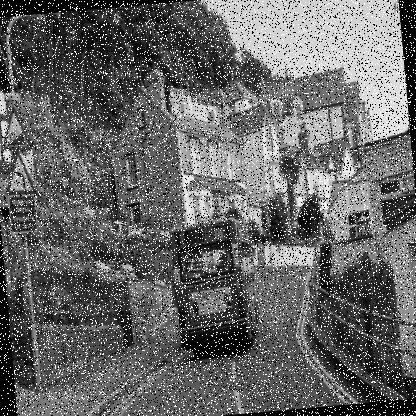Car: (100, 254, 136, 284), (74, 258, 122, 280), (152, 278, 166, 286)
